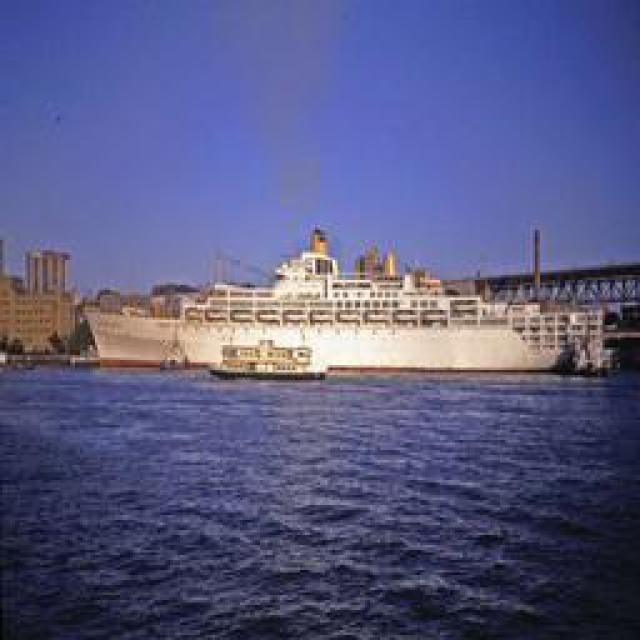Ship: (82, 251, 611, 376), (210, 354, 328, 384)
